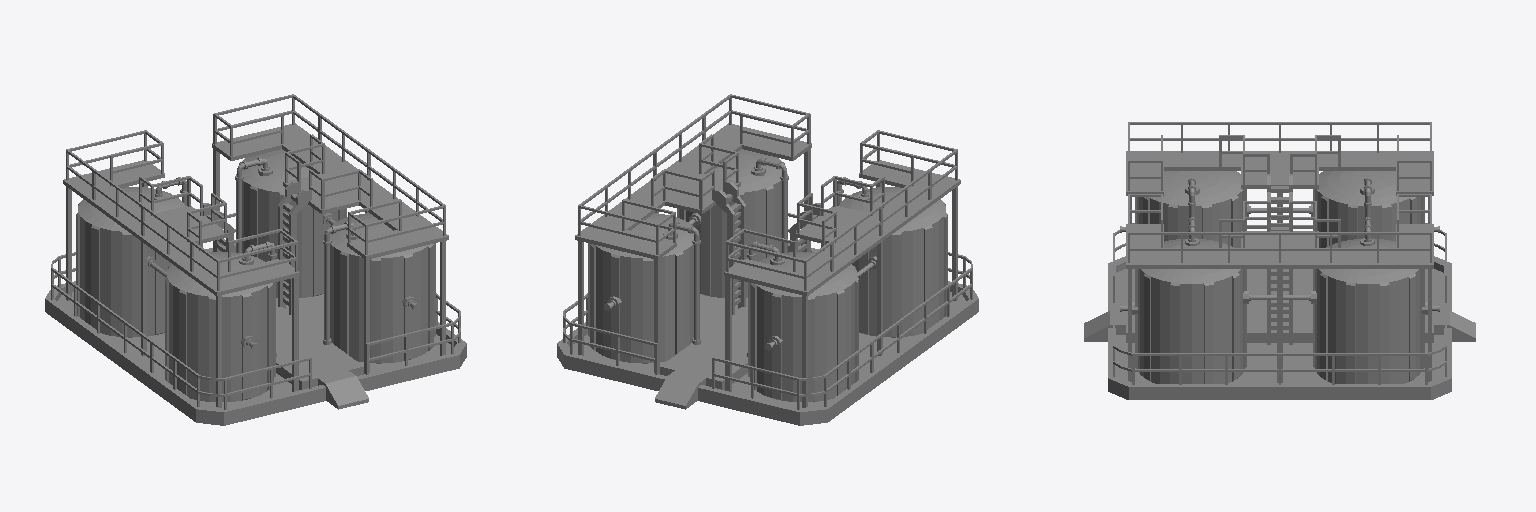
3 views of the same model, side by side, from view 1: azimuth 30°, elevation 25°; view 2: azimuth 150°, elevation 25°; view 3: azimuth 270°, elevation 25° (orthographic).
Visible parts, largest first — view 1: Fuel_tank_4__Cube_008; view 2: Fuel_tank_4__Cube_008; view 3: Fuel_tank_4__Cube_008.
Boxes of the visible parts, x1,y1,x2,y2 form: Fuel_tank_4__Cube_008: [45, 94, 466, 425]; Fuel_tank_4__Cube_008: [557, 94, 978, 425]; Fuel_tank_4__Cube_008: [1084, 122, 1475, 399].
Size of the model in its own units: 3.52 by 1.95 by 4.41.